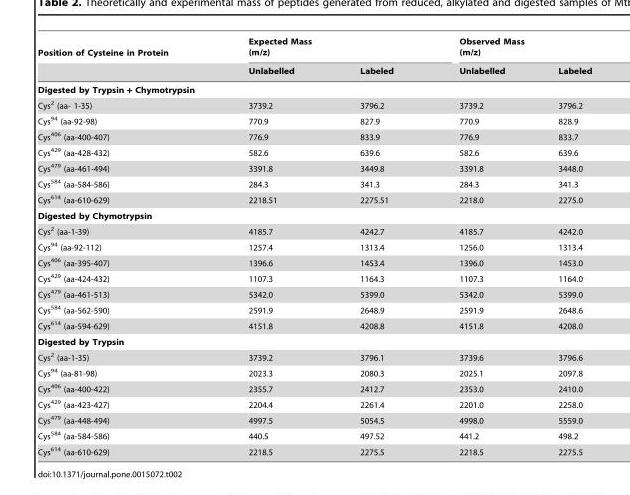table: (37, 36, 591, 456)
table column: (37, 36, 220, 456), (220, 36, 326, 456), (425, 36, 530, 456), (326, 36, 425, 456), (530, 36, 591, 456)
table column header: (37, 36, 591, 79)
table projected row header: (37, 79, 591, 96), (37, 207, 591, 222), (37, 333, 591, 348)
table row: (37, 36, 591, 61), (37, 61, 591, 79), (37, 79, 591, 96), (37, 96, 591, 112), (37, 112, 591, 128), (37, 143, 591, 159), (37, 159, 591, 175), (37, 175, 591, 191), (37, 191, 591, 207), (37, 222, 591, 238), (37, 238, 591, 254), (37, 269, 591, 285), (37, 285, 591, 301), (37, 301, 591, 317), (37, 317, 591, 333), (37, 348, 591, 364), (37, 364, 591, 380), (37, 395, 591, 411), (37, 411, 591, 427), (37, 427, 591, 443), (37, 128, 591, 143), (37, 207, 591, 222), (37, 254, 591, 269), (37, 333, 591, 348), (37, 380, 591, 395), (37, 443, 591, 456)
table spanning cell: (37, 36, 220, 79), (220, 36, 425, 61), (425, 36, 591, 61)
